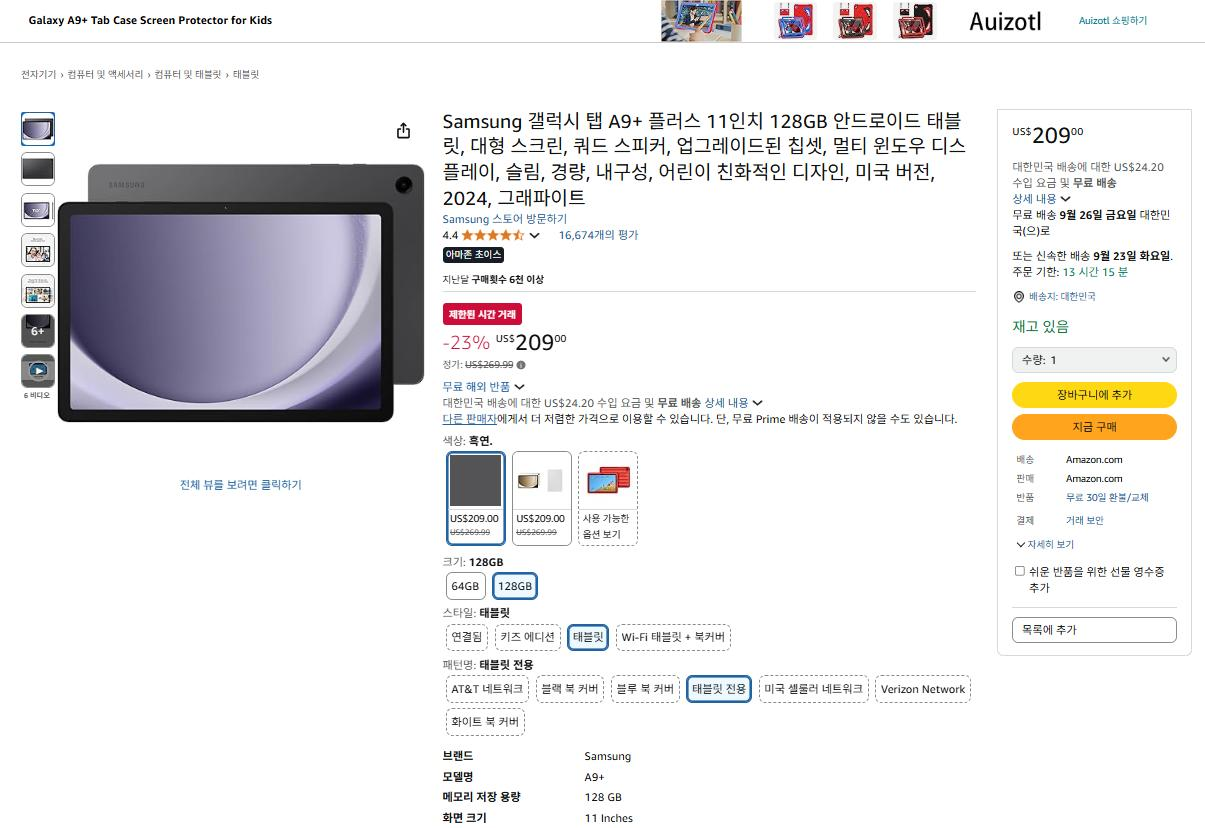button: (577, 448, 642, 551), (508, 450, 574, 548), (447, 443, 508, 549), (1010, 344, 1179, 372), (1013, 413, 1180, 440), (613, 619, 738, 654), (871, 673, 982, 709), (1011, 384, 1177, 407), (758, 672, 873, 704), (174, 472, 308, 499), (534, 668, 608, 711), (443, 670, 531, 706), (444, 703, 529, 740), (612, 667, 682, 710), (682, 670, 756, 708), (1073, 7, 1160, 38), (492, 621, 563, 656), (1063, 487, 1156, 512), (18, 352, 62, 403), (441, 213, 573, 229), (1008, 288, 1106, 309), (13, 271, 59, 310), (558, 226, 642, 247), (444, 619, 490, 657), (19, 108, 59, 151), (564, 619, 610, 656), (492, 569, 541, 602), (19, 310, 59, 350), (17, 149, 58, 188), (439, 377, 531, 394), (18, 230, 58, 268), (1061, 261, 1138, 280), (443, 569, 487, 602), (1014, 537, 1083, 556), (21, 191, 57, 227), (1007, 190, 1073, 207), (707, 392, 764, 410), (439, 410, 498, 426), (1066, 516, 1111, 534), (391, 117, 418, 147), (528, 228, 541, 241)
checkbox: (1014, 560, 1174, 600)
input_field: (1010, 612, 1181, 644)
popup: (2, 2, 1063, 47)
